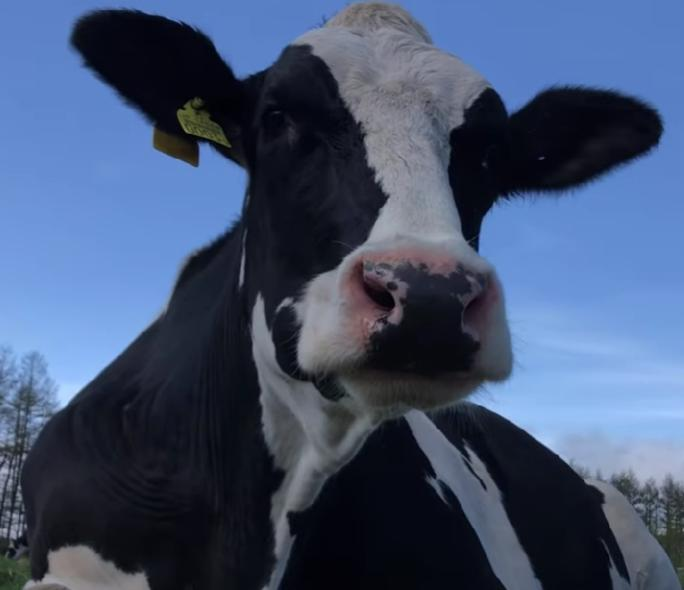cow: (26, 0, 684, 590)
